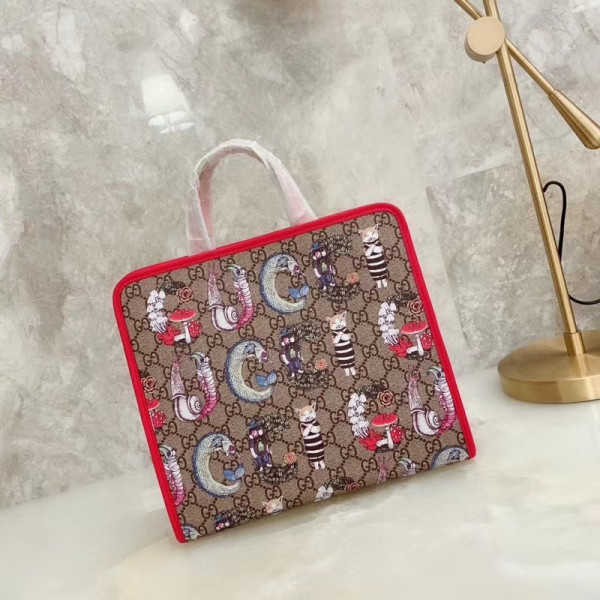Gucci: (107, 180, 489, 547), (147, 225, 409, 328)
